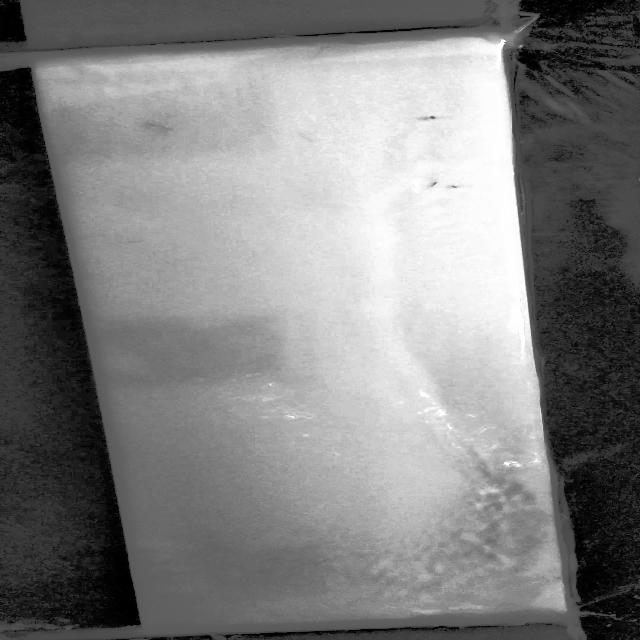shrimp: (412, 114, 445, 125), (424, 174, 446, 190), (442, 181, 464, 191)
